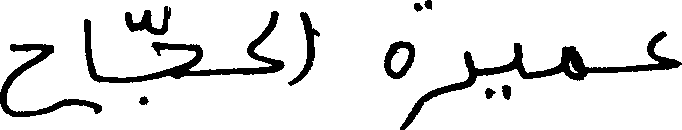ا: (296, 9, 314, 83), (81, 16, 99, 85)
ة: (382, 0, 433, 80)
ج: (139, 42, 201, 105)
ح: (0, 42, 54, 117), (227, 44, 287, 78)
ر: (413, 45, 477, 120)
ع: (644, 29, 680, 71)
ل: (244, 8, 280, 56)
م: (558, 43, 587, 81)
ي: (482, 41, 524, 102)
